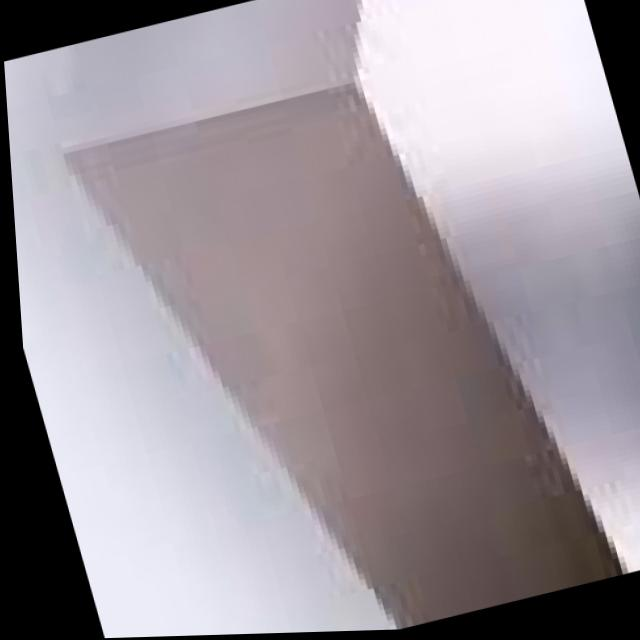metal-plates: (47, 1, 640, 633)
